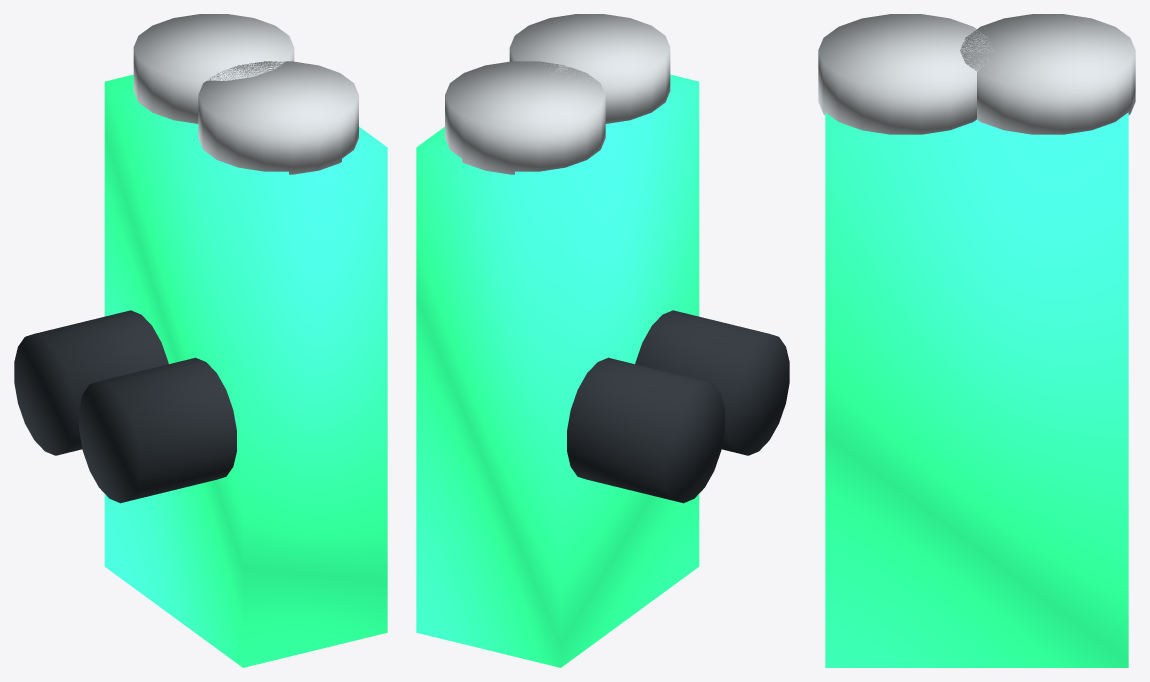
File: 52_L95_J1_Protected5VTerminal.fbx
3 renders of one model, left to right at view 1: azimuth 30°, elevation 25°; view 2: azimuth 150°, elevation 25°; view 3: azimuth 270°, elevation 25°, orthographic. The views are drawn at different scales.
Parts seen in each view (by area): view 1: L95_Protected5VTerminal_Part_0000, L95_Protected5VTerminal_Part_0002, L95_Protected5VTerminal_Part_0001; view 2: L95_Protected5VTerminal_Part_0000, L95_Protected5VTerminal_Part_0002, L95_Protected5VTerminal_Part_0001; view 3: L95_Protected5VTerminal_Part_0000, L95_Protected5VTerminal_Part_0001.
Boxes of the visible parts, box(x1,y1,x2,y2) form: L95_Protected5VTerminal_Part_0000: box(104, 74, 387, 667); L95_Protected5VTerminal_Part_0002: box(14, 310, 236, 503); L95_Protected5VTerminal_Part_0001: box(133, 14, 358, 174); L95_Protected5VTerminal_Part_0000: box(416, 74, 699, 667); L95_Protected5VTerminal_Part_0002: box(567, 310, 789, 503); L95_Protected5VTerminal_Part_0001: box(445, 14, 670, 174); L95_Protected5VTerminal_Part_0000: box(825, 112, 1128, 667); L95_Protected5VTerminal_Part_0001: box(818, 14, 1135, 134).
Size of the model in its own units: 0.1249 by 0.2615 by 0.1301.
